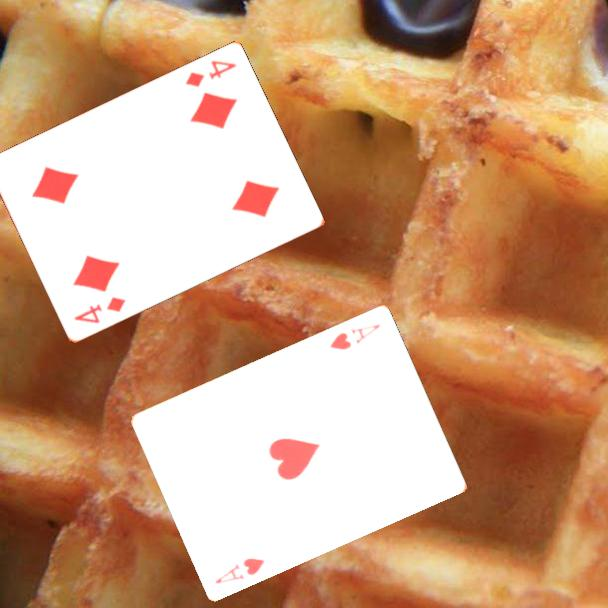d04: (70, 294, 128, 327), (182, 57, 239, 90)
h01: (327, 320, 384, 352), (212, 554, 268, 586)
